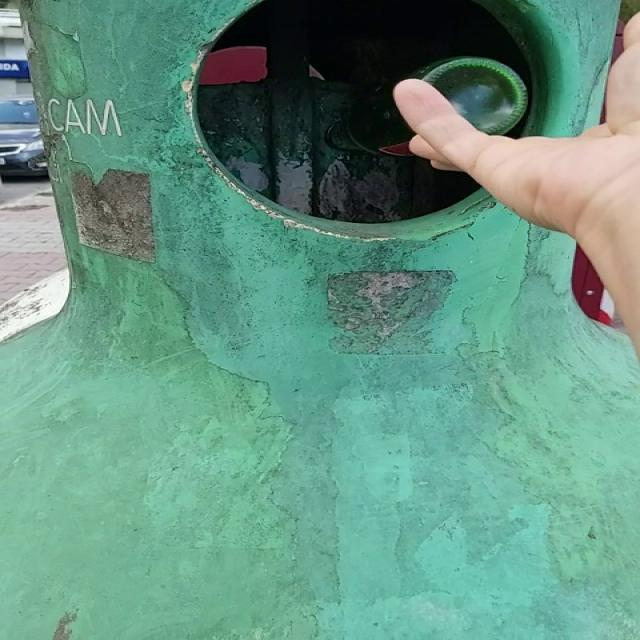glass: (409, 56, 528, 135), (331, 84, 415, 156)
